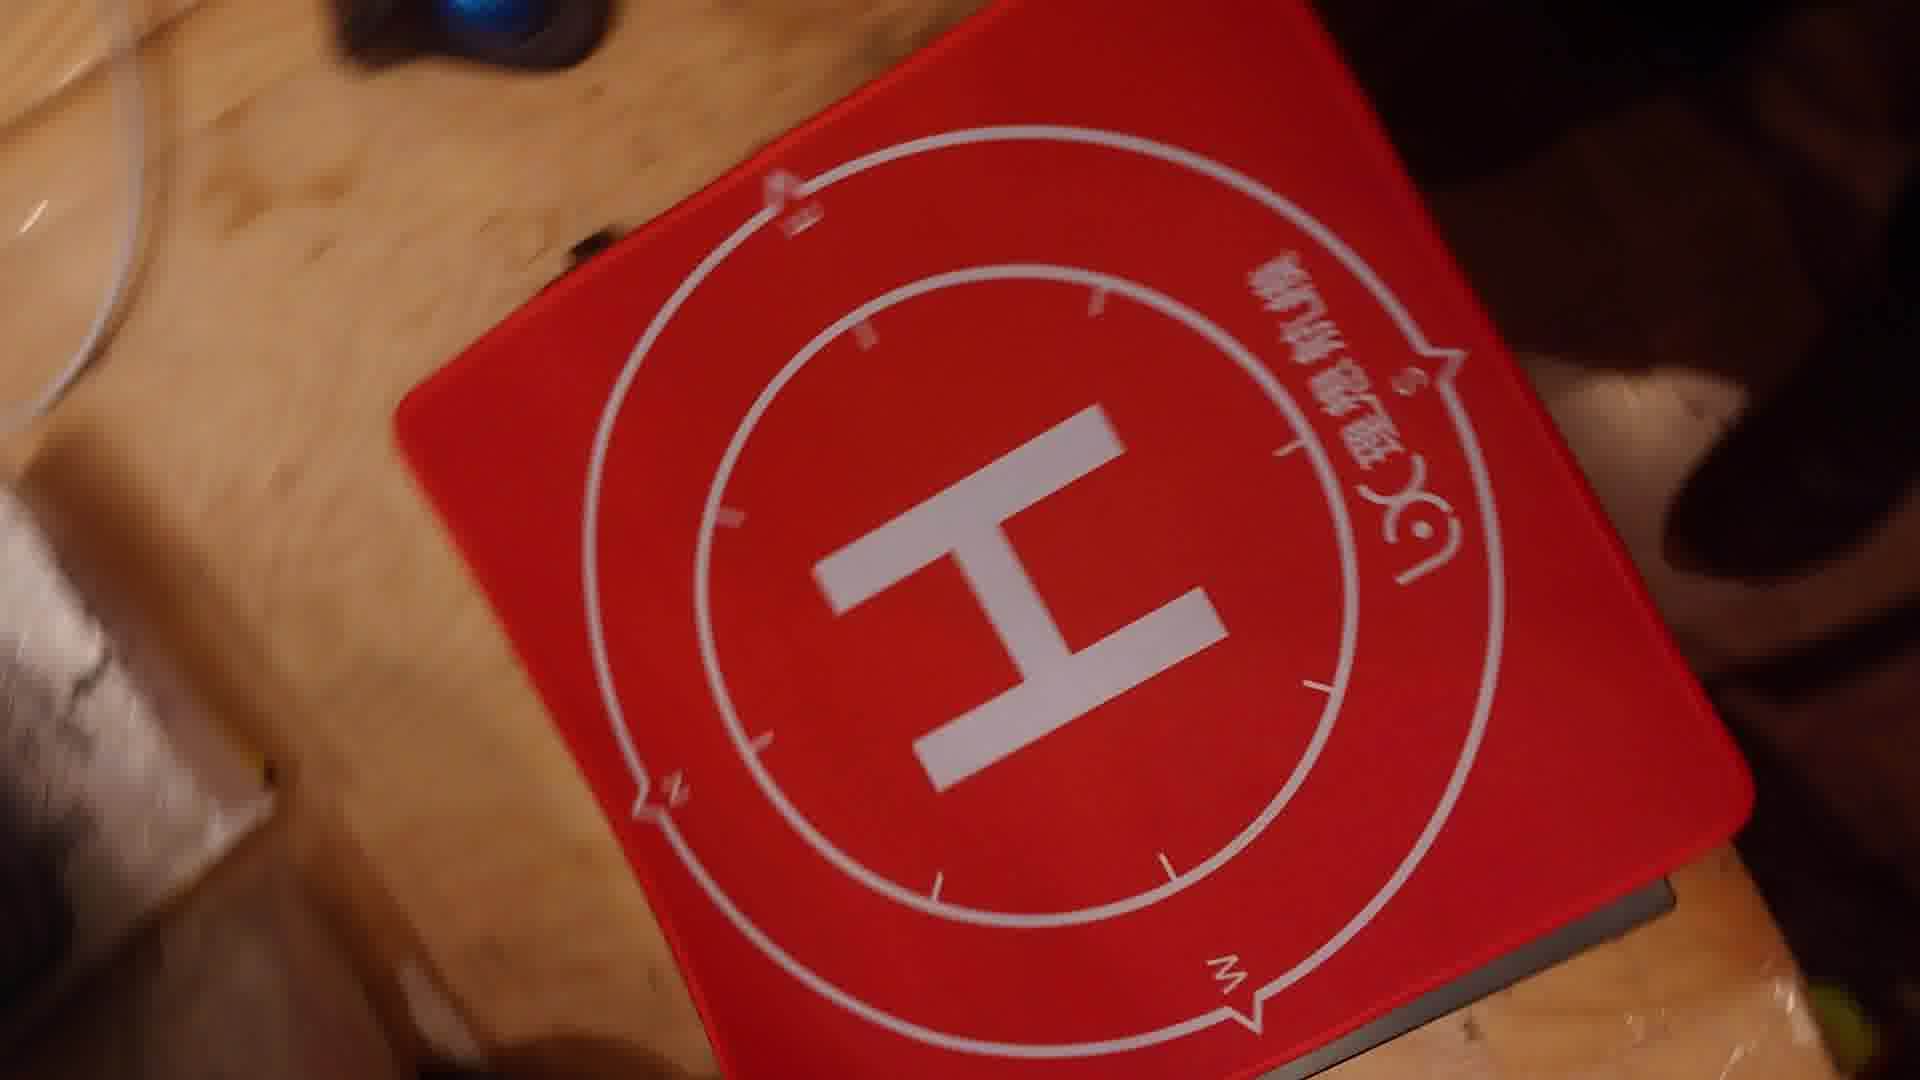H: (806, 400, 1230, 795)
